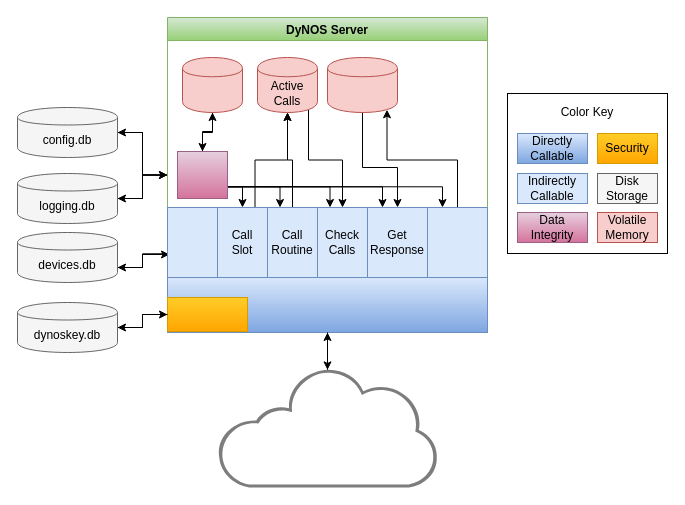
The diagram is 685 pixels wide and 505 high, and some of its shapes have lost their labels. Each missing label, with the box of its shape:
Active Responses: (326, 56, 398, 112)
Get Node Lock: (176, 150, 228, 198)
Internet: (217, 367, 437, 487)
Network Router: (166, 276, 488, 332)
Node Locks: (182, 56, 242, 112)
Put Response: (426, 206, 488, 278)
Register Node: (166, 206, 218, 278)
RSA Sig / Verify: (166, 296, 248, 332)
